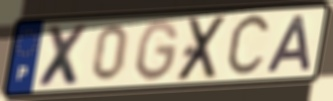0: (89, 23, 132, 84)
A: (264, 13, 314, 75)
C: (223, 10, 273, 82)
G: (134, 18, 181, 84)
X: (174, 13, 231, 84), (35, 22, 92, 89)
